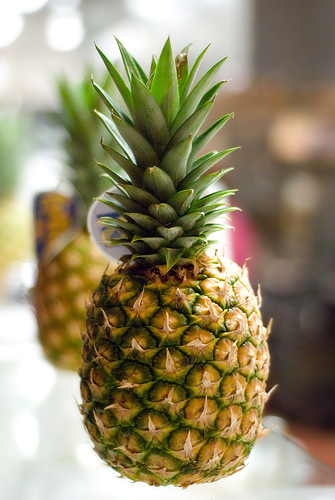pineapple: (76, 32, 280, 488), (28, 53, 120, 377)
